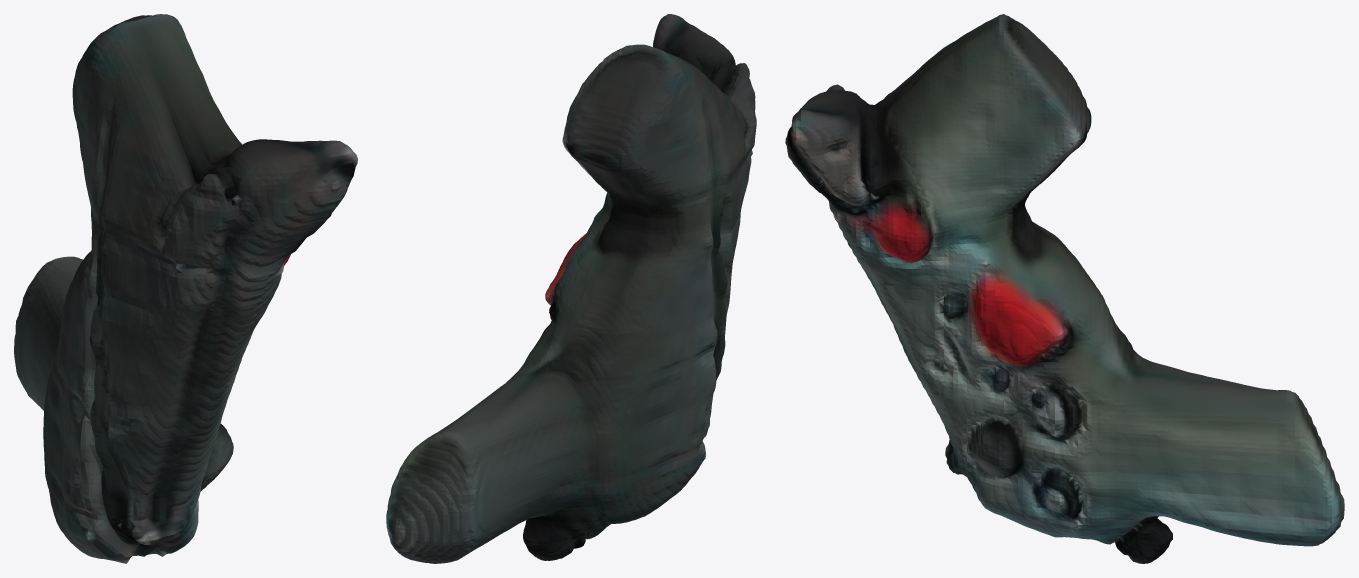
3 views of the same model, side by side, from view 1: azimuth 30°, elevation 25°; view 2: azimuth 150°, elevation 25°; view 3: azimuth 270°, elevation 25° (orthographic). The views are drawn at different scales.
Size of the model in its own units: 0.3225 by 0.852 by 0.8261.
